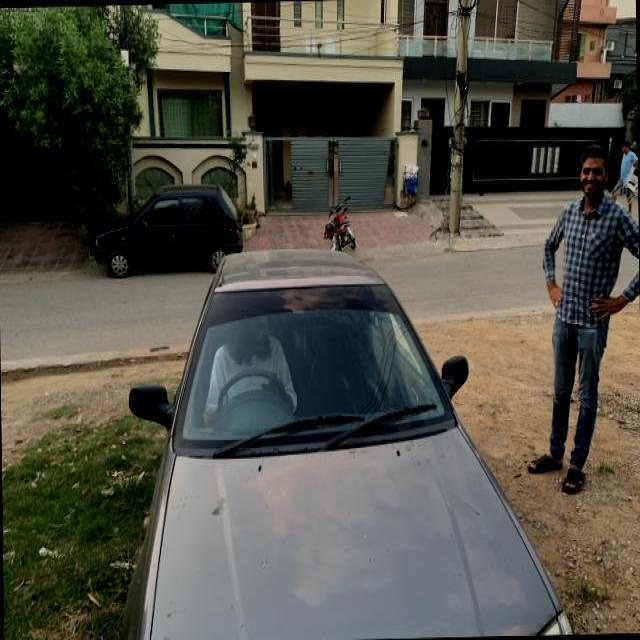no-seatbelt: (207, 336, 309, 432)
